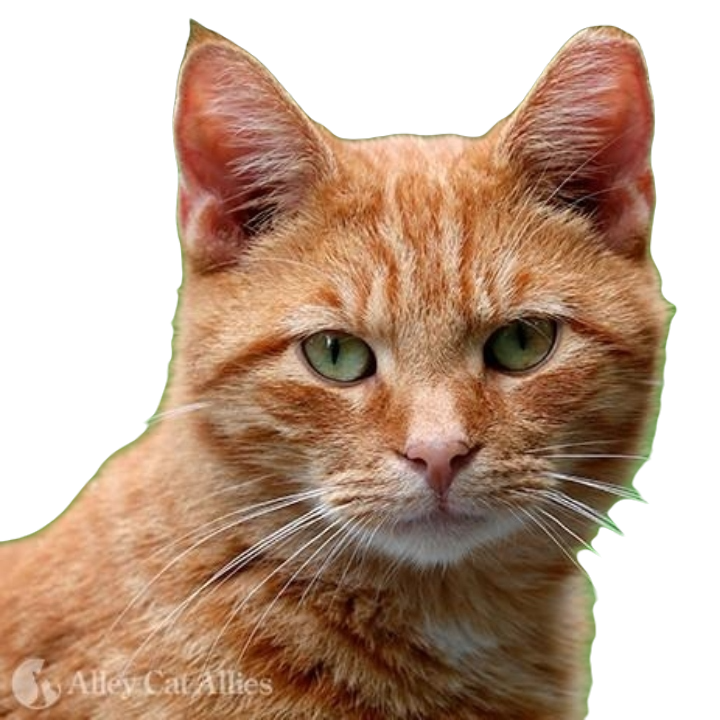Cat: (0, 11, 682, 719)
